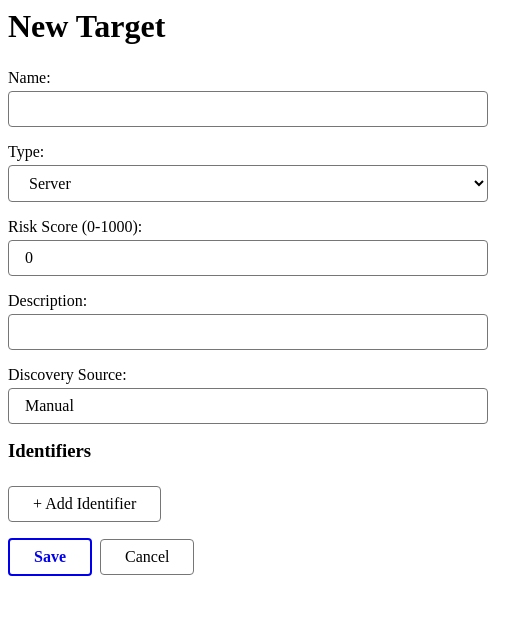
TargetEdit.vue › shows a save error and stays on the page when the save fails
Type "new-target" into the field labelled "Name:".
click(248, 109); type("new-target")  # box [8,91,488,127]
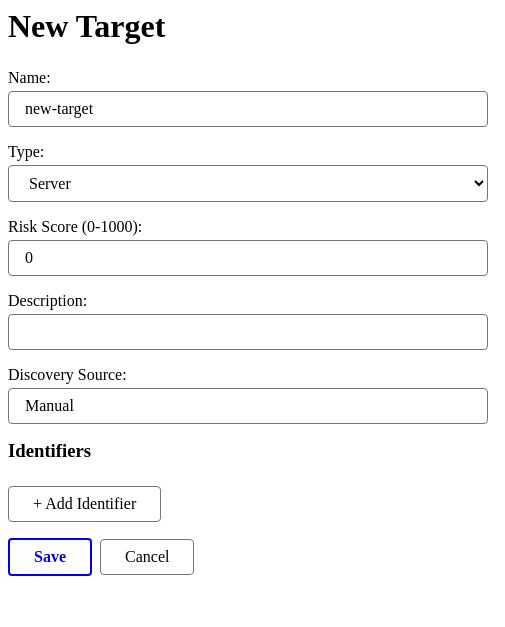
Submit the form
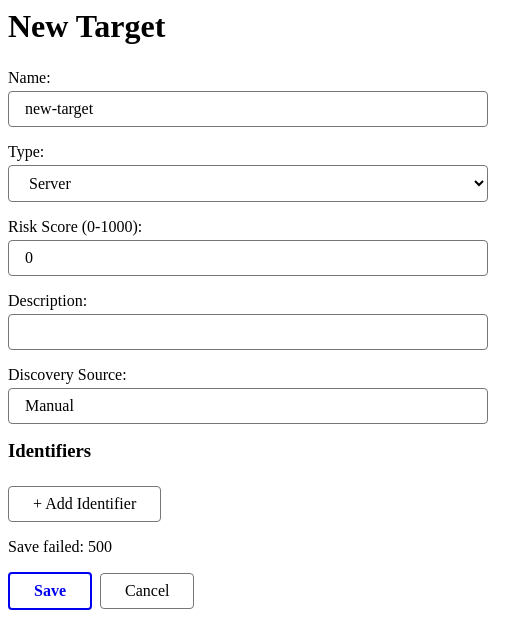
Now the message "Save failed: 500" is shown, box [8,538,112,555]
